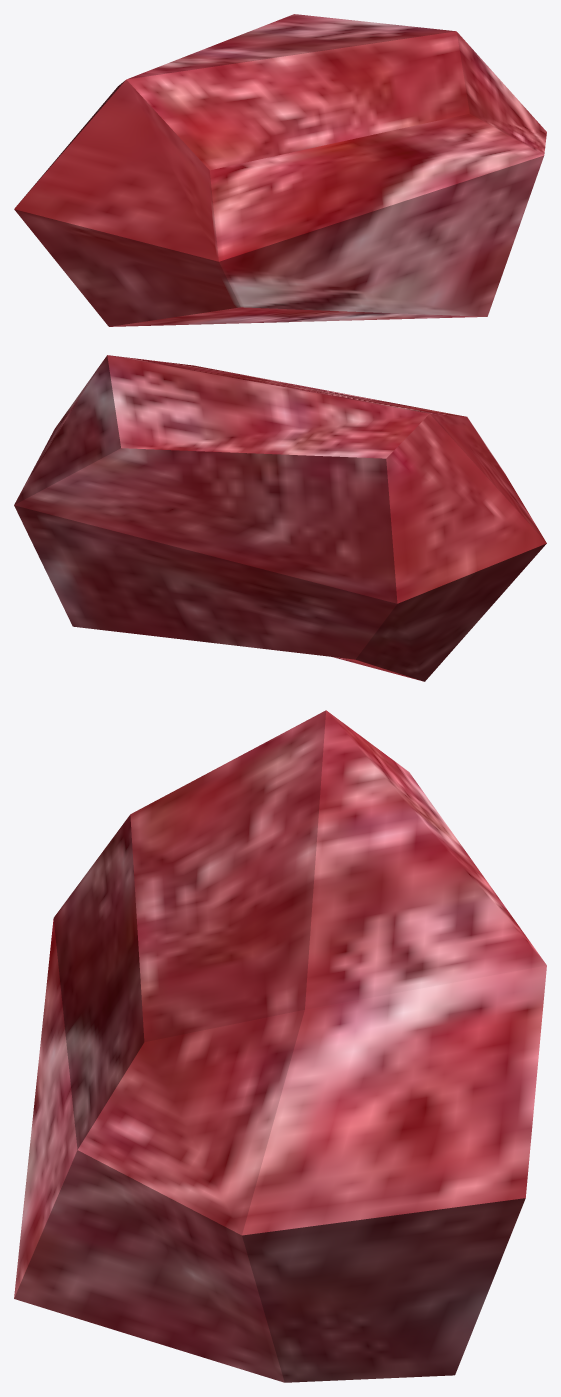
The model's file is meat.obj.
The picture shows the model from 3 angles, top to bottom: view 1: azimuth 30°, elevation 25°; view 2: azimuth 150°, elevation 25°; view 3: azimuth 270°, elevation 25°; orthographic projection. The views are drawn at different scales.
Visible parts, largest first — view 1: Cube; view 2: Cube; view 3: Cube.
Boxes of the visible parts, bbox=[...] form: Cube: bbox=[14, 14, 546, 326]; Cube: bbox=[14, 355, 546, 681]; Cube: bbox=[14, 710, 546, 1382].
Bounding box in the file's own units: 0.6739 × 0.343 × 0.3756.
